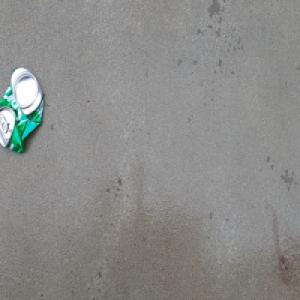SodaCan: (0, 65, 45, 156)
